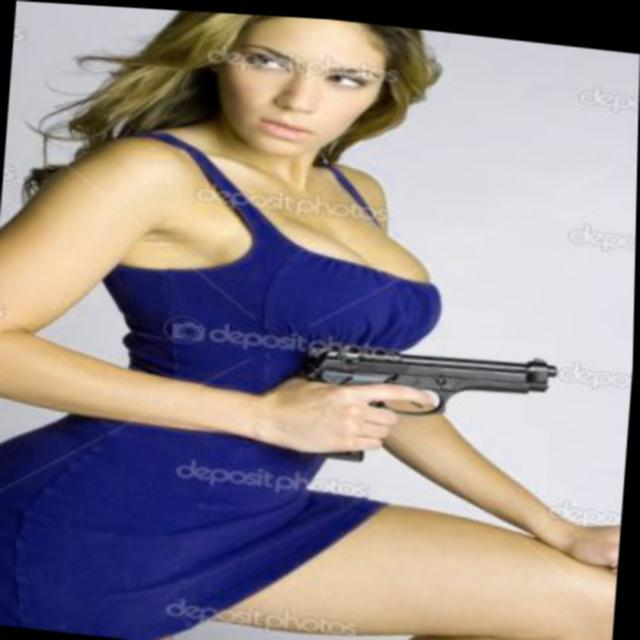weapon: (286, 315, 568, 481)
